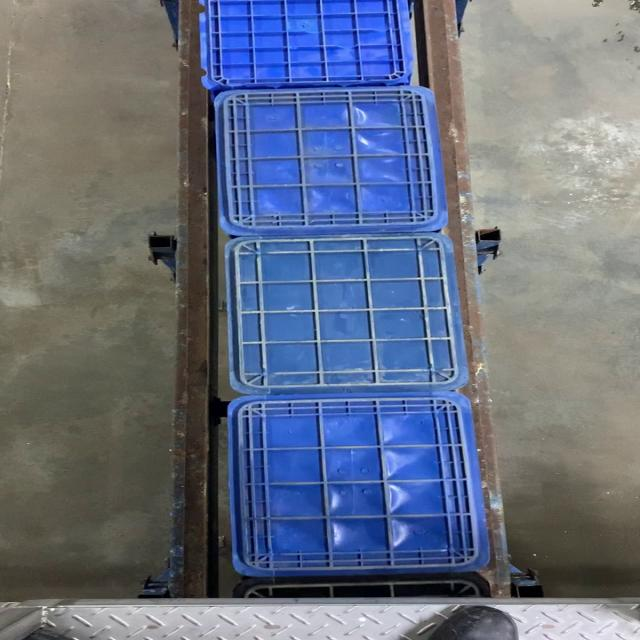Box: (223, 394, 488, 576), (223, 235, 472, 393), (207, 87, 447, 236)
